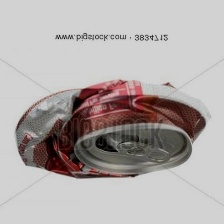can: (12, 70, 215, 182)
